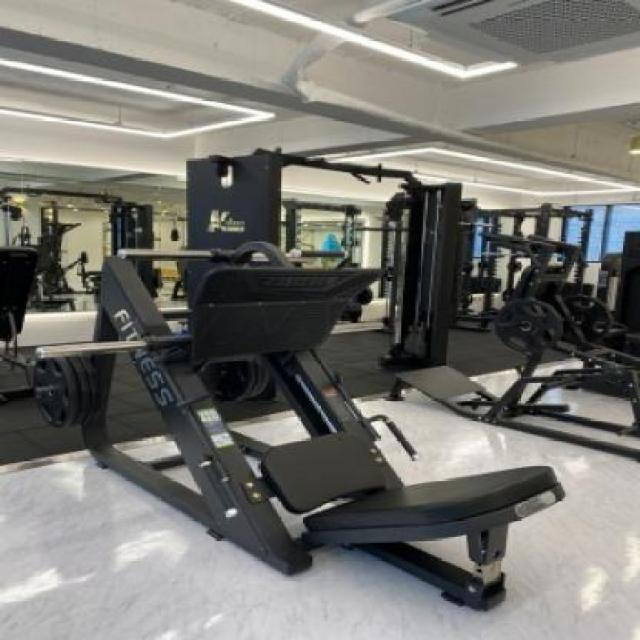leg press: (3, 146, 640, 631)
